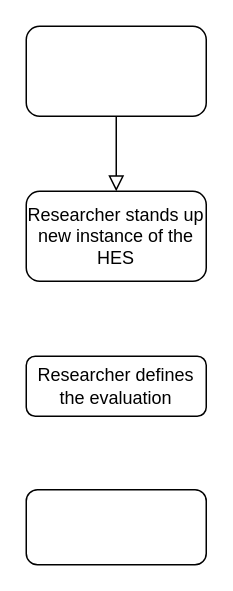
The diagram is 233 pixels wide and 591 high, and some of its shapes have lost their labels. Here are the shapes that lost their labels. From the top down, the box of each, then its label:
(25, 25, 206, 116): Researcher wants to create a new evaluation
(25, 488, 206, 565): Researcher loads the required data into the HES
